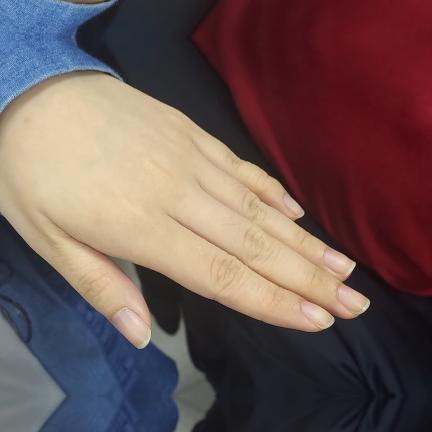Nail: (110, 307, 150, 349), (301, 301, 335, 330), (323, 249, 356, 278), (339, 285, 371, 314), (283, 192, 305, 218)
